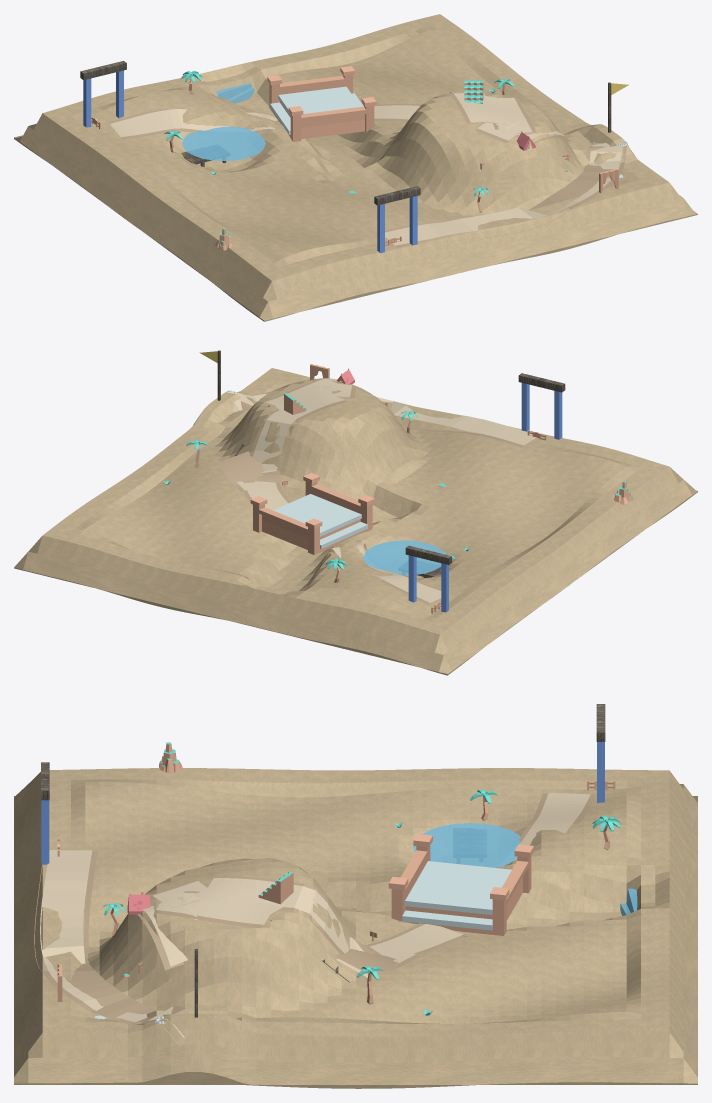
The model's file is world4_sea.glb.
3 views of the same model, one above another, from view 1: azimuth 30°, elevation 25°; view 2: azimuth 150°, elevation 25°; view 3: azimuth 270°, elevation 25° (orthographic). The views are drawn at different scales.
Visible parts, largest first — view 1: W4_Terrain, bridge_wood, W4_Road_7, W4_Lagoon, W4_RoadCase_7, W4_Road_0, W4_Road_3, W4_Road_1, W4_Inlet, W4_Road_5; view 2: W4_Terrain, bridge_wood, W4_Road_1, W4_Road_7, W4_Lagoon, W4_RoadCase_2, W4_Road_0, W4_RoadCase_1, W4_Road_3; view 3: W4_Terrain, bridge_wood, W4_Road_7, W4_Road_1, W4_Lagoon, W4_RoadCase_7, W4_Road_3, W4_Road_0, W4_Road_5, W4_RoadCase_1, W4_RoadCase_2, W4_Road_6 (+1 smaller).
Part boxes in pixels (<box>): W4_Terrain: <box>14,14,697,321</box>; bridge_wood: <box>267,66,376,141</box>; W4_Road_7: <box>385,140,624,245</box>; W4_Lagoon: <box>182,126,265,160</box>; W4_RoadCase_7: <box>385,140,628,247</box>; W4_Road_0: <box>110,109,277,136</box>; W4_Road_3: <box>486,98,532,134</box>; W4_Road_1: <box>374,91,499,122</box>; W4_Inlet: <box>215,83,254,103</box>; W4_Road_5: <box>471,96,506,123</box>; W4_Terrain: <box>14,368,697,675</box>; bridge_wood: <box>250,473,374,554</box>; W4_Road_1: <box>247,393,344,510</box>; W4_Road_7: <box>226,392,536,445</box>; W4_Lagoon: <box>363,540,443,575</box>; W4_RoadCase_2: <box>217,451,264,491</box>; W4_Road_0: <box>330,540,449,602</box>; W4_RoadCase_1: <box>243,400,347,505</box>; W4_Road_3: <box>265,378,346,408</box>; W4_Terrain: <box>14,768,697,1088</box>; bridge_wood: <box>388,834,533,935</box>; W4_Road_7: <box>40,850,184,1037</box>; W4_Road_1: <box>202,878,463,957</box>; W4_Lagoon: <box>413,823,520,867</box>; W4_RoadCase_7: <box>34,851,189,1046</box>; W4_Road_3: <box>156,893,275,924</box>; W4_Road_0: <box>498,793,590,866</box>; W4_Road_5: <box>194,879,282,914</box>; W4_RoadCase_1: <box>214,876,467,955</box>; W4_RoadCase_2: <box>334,948,419,975</box>; W4_Road_6: <box>143,896,198,966</box>.
Size of what is drawn, in the model's own units: 24 by 4.99 by 24.
Materials: 18 (3 with a texture image).
